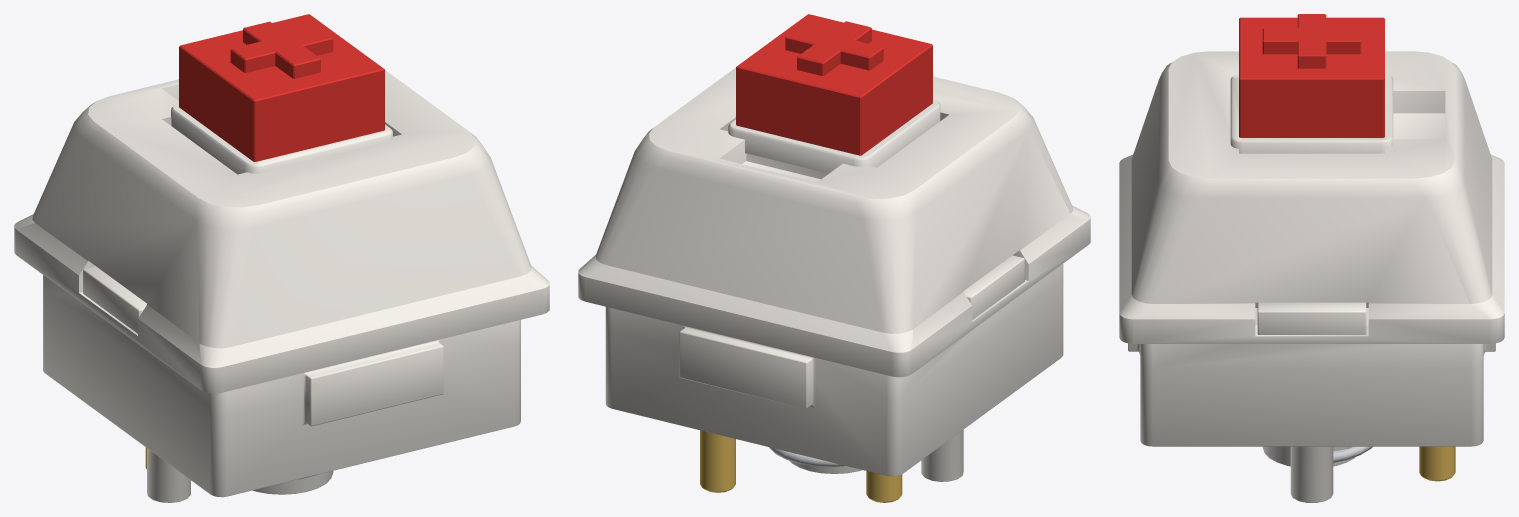
File: switch_box.glb
The picture shows the model from 3 angles, left to right: view 1: azimuth 30°, elevation 25°; view 2: azimuth 150°, elevation 25°; view 3: azimuth 270°, elevation 25°; orthographic projection. The views are drawn at different scales.
Visible parts, largest first — view 1: top, bottom3, bottom5, stem_clicky, stem_silent, box; view 2: top, bottom3, bottom5, stem_clicky, stem_silent, box, pins; view 3: top, bottom3, bottom5, stem_clicky, stem_silent, box, pins.
Part boxes in pixels (<box>): top: <box>14,70,549,393</box>; bottom3: <box>43,267,520,494</box>; bottom5: <box>43,266,520,502</box>; stem_clicky: <box>182,16,383,161</box>; stem_silent: <box>179,14,384,161</box>; box: <box>171,103,392,174</box>; top: <box>578,67,1090,377</box>; bottom3: <box>605,256,1063,473</box>; bottom5: <box>605,255,1063,481</box>; stem_clicky: <box>737,15,929,155</box>; stem_silent: <box>736,14,932,155</box>; box: <box>728,99,940,173</box>; pins: <box>700,430,902,502</box>; top: <box>1119,51,1504,343</box>; bottom3: <box>1131,302,1492,463</box>; bottom5: <box>1128,302,1495,502</box>; stem_clicky: <box>1241,14,1382,137</box>; stem_silent: <box>1239,14,1384,137</box>; box: <box>1230,74,1393,153</box>; pins: <box>1419,446,1455,481</box>.
Bounding box in the file's own units: 0.0156 × 0.0185 × 0.0156.
